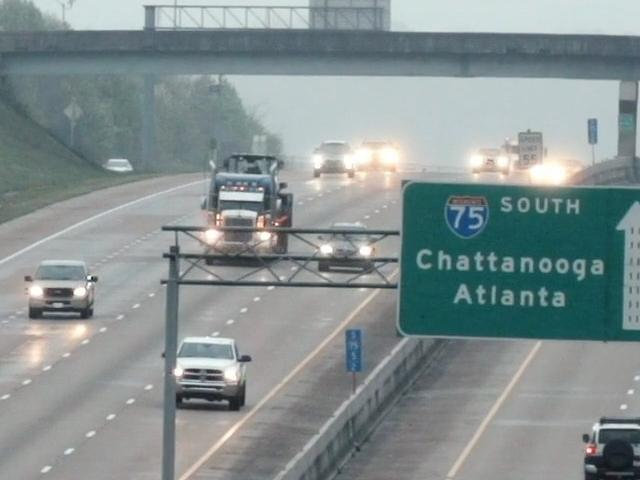car: (172, 337, 247, 408), (28, 262, 97, 325), (313, 218, 378, 275), (586, 413, 640, 480), (310, 140, 358, 178), (530, 156, 583, 185), (471, 148, 510, 179)
truck: (198, 147, 293, 268)
